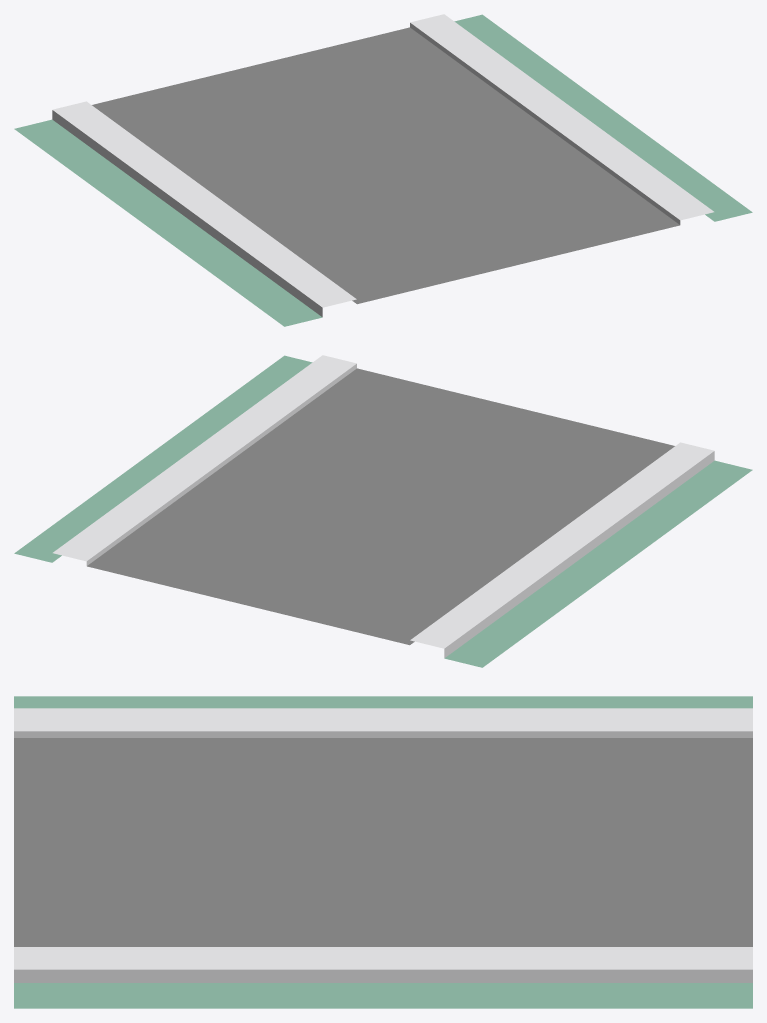
Rendered from roadStraight.glb.
3 renders of one model, top to bottom at view 1: azimuth 30°, elevation 25°; view 2: azimuth 150°, elevation 25°; view 3: azimuth 270°, elevation 25°, orthographic. The views are drawn at different scales.
Visible parts, largest first — view 1: roadStraight(Clone); view 2: roadStraight(Clone); view 3: roadStraight(Clone).
Boxes of the visible parts, x1,y1,x2,y2 form: roadStraight(Clone): (14, 14, 752, 326); roadStraight(Clone): (14, 355, 752, 667); roadStraight(Clone): (14, 696, 752, 1008).
Size of the model in its own units: 1 by 0.02 by 1.
Materials: 1 (1 with a texture image).
